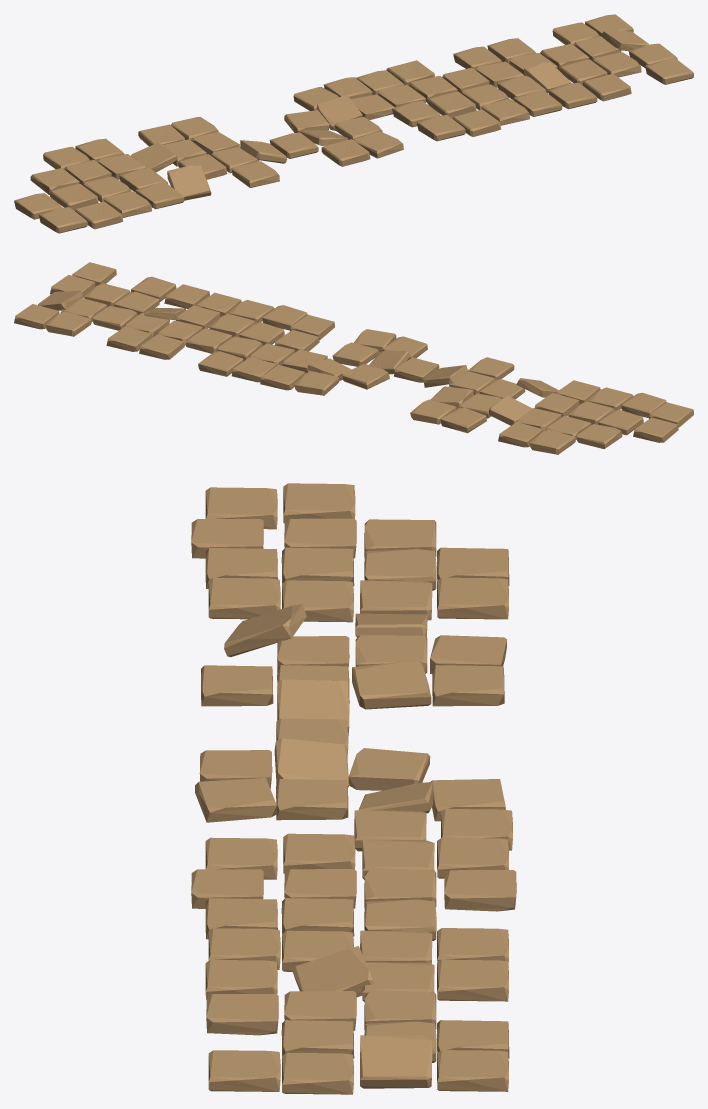
Rendered from SM_floortiles_04.fbx.
3 renders of one model, top to bottom at view 1: azimuth 30°, elevation 25°; view 2: azimuth 150°, elevation 25°; view 3: azimuth 270°, elevation 25°, orthographic. The views are drawn at different scales.
Visible parts, largest first — view 1: Object32870; view 2: Object32870; view 3: Object32870.
Boxes of the visible parts, box(x1,y1,x2,y2) form: Object32870: box(14, 14, 693, 233); Object32870: box(14, 262, 693, 454); Object32870: box(191, 483, 516, 1094).
Bounding box in the file's own units: 389 × 12.51 × 89.42.
